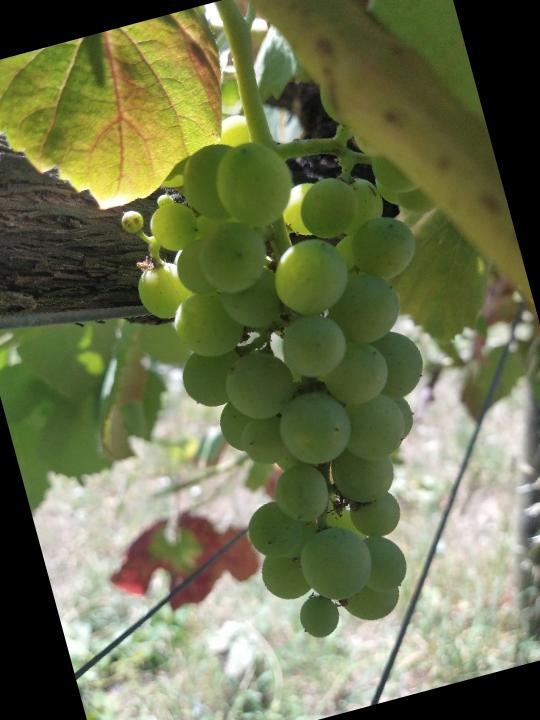grape: (100, 73, 535, 660)
